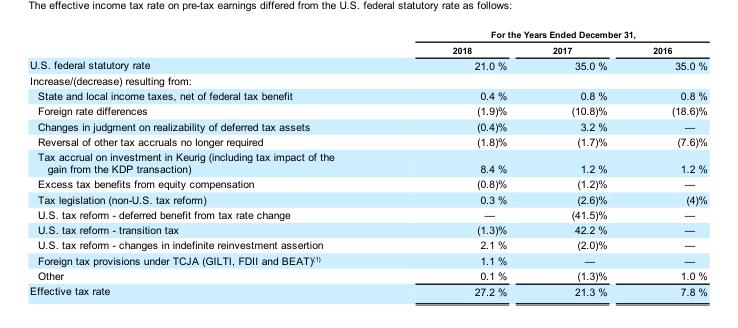table: (29, 28, 706, 297)
table column: (29, 28, 392, 297), (392, 28, 529, 297), (529, 28, 629, 297), (629, 28, 706, 297)
table column header: (29, 28, 706, 56)
table projected row header: (29, 72, 706, 88)
table row: (29, 148, 706, 176), (29, 56, 706, 72), (29, 72, 706, 88), (29, 221, 706, 237), (29, 41, 706, 56), (29, 88, 706, 103), (29, 103, 706, 118), (29, 118, 706, 133), (29, 133, 706, 148), (29, 176, 706, 191), (29, 191, 706, 206), (29, 206, 706, 221), (29, 237, 706, 252), (29, 252, 706, 267), (29, 267, 706, 282), (29, 282, 706, 297), (29, 28, 706, 41)
table spanning cell: (392, 28, 706, 41)
